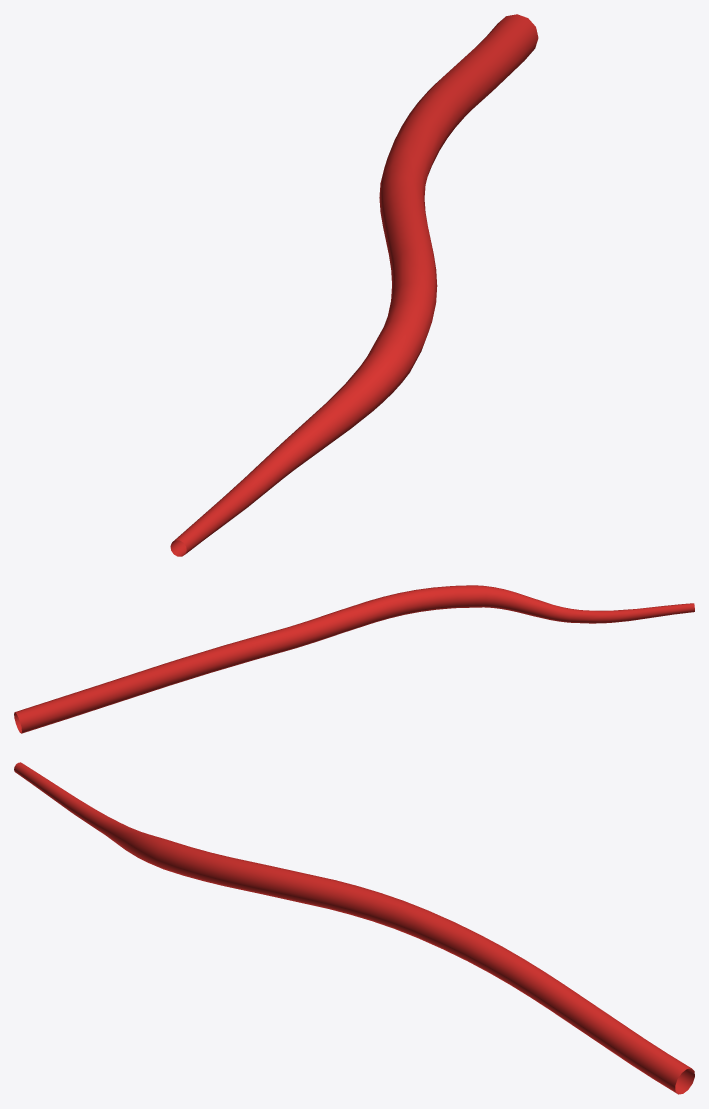
File: circulatorio-superior-labial-vein-l.glb
3 renders of one model, top to bottom at view 1: azimuth 30°, elevation 25°; view 2: azimuth 150°, elevation 25°; view 3: azimuth 270°, elevation 25°, orthographic. The views are drawn at different scales.
Parts seen in each view (by area): view 1: Superior labial vein.l; view 2: Superior labial vein.l; view 3: Superior labial vein.l.
Boxes of the visible parts, x1,y1,x2,y2 form: Superior labial vein.l: (170,14,538,556); Superior labial vein.l: (14,585,694,733); Superior labial vein.l: (14,762,694,1094).
Size of the model in its own units: 0.0221 by 0.00346 by 0.023.
